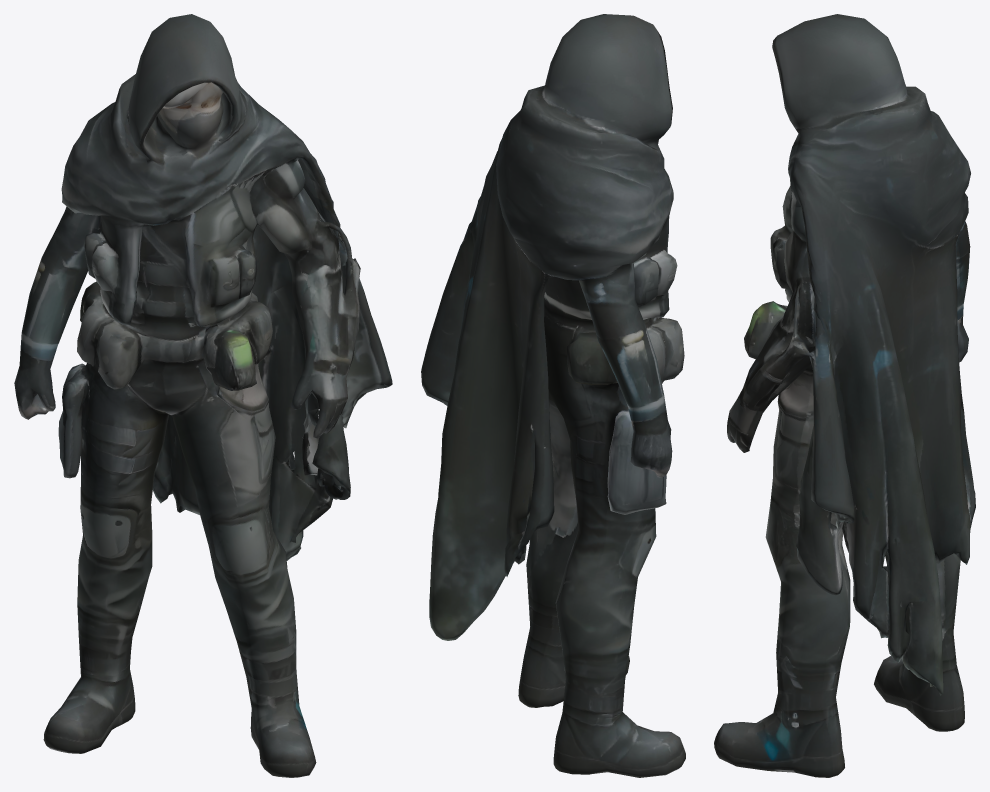
Rendered from tripo_convert_c443b0b8-b773-428c-8e7f-d0952f3ab1a4.fbx.
The picture shows the model from 3 angles, left to right: view 1: azimuth 30°, elevation 25°; view 2: azimuth 150°, elevation 25°; view 3: azimuth 270°, elevation 25°; orthographic projection. The views are drawn at different scales.
Visible parts, largest first — view 1: tripo_node_c443b0b8; view 2: tripo_node_c443b0b8; view 3: tripo_node_c443b0b8.
Part boxes in pixels (<box>): tripo_node_c443b0b8: <box>14,14,392,777</box>; tripo_node_c443b0b8: <box>421,14,685,777</box>; tripo_node_c443b0b8: <box>714,14,975,777</box>.
Bounding box in the file's own units: 44.77 × 32.96 × 99.74.
1 material, 1 textured.
